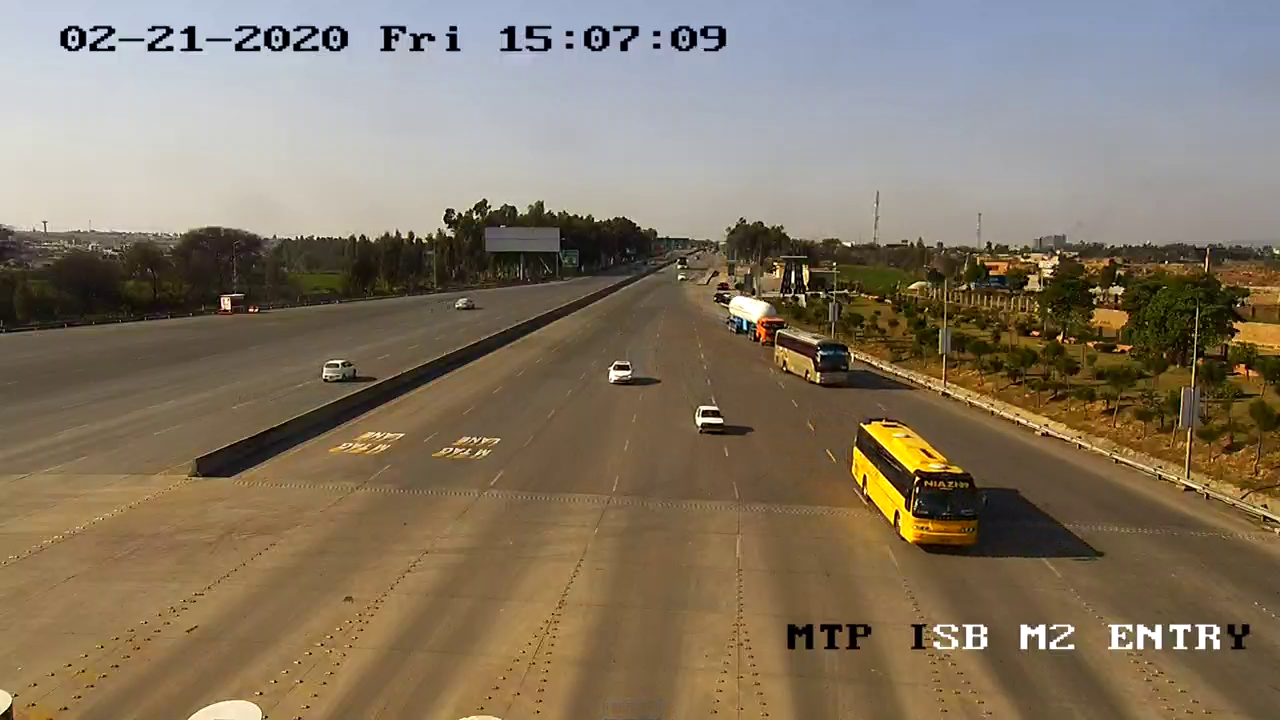f1: (688, 398, 729, 440), (595, 355, 643, 388)
f4: (843, 412, 989, 563), (760, 321, 857, 397)
